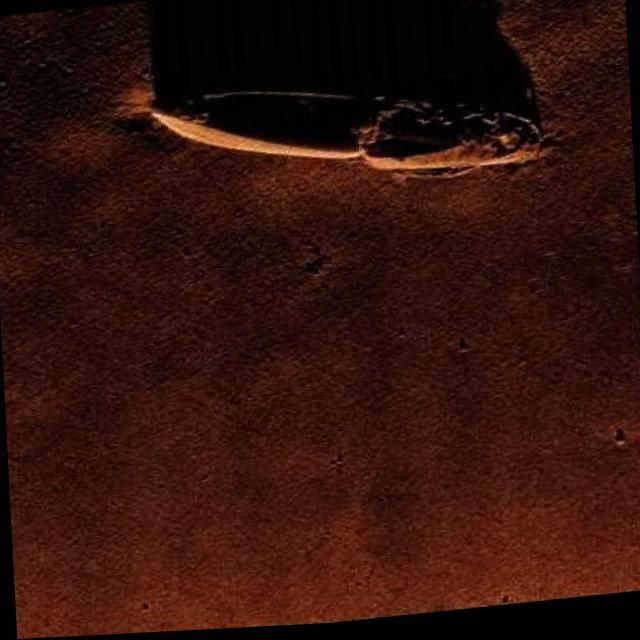shipwreck: (140, 64, 548, 212)
